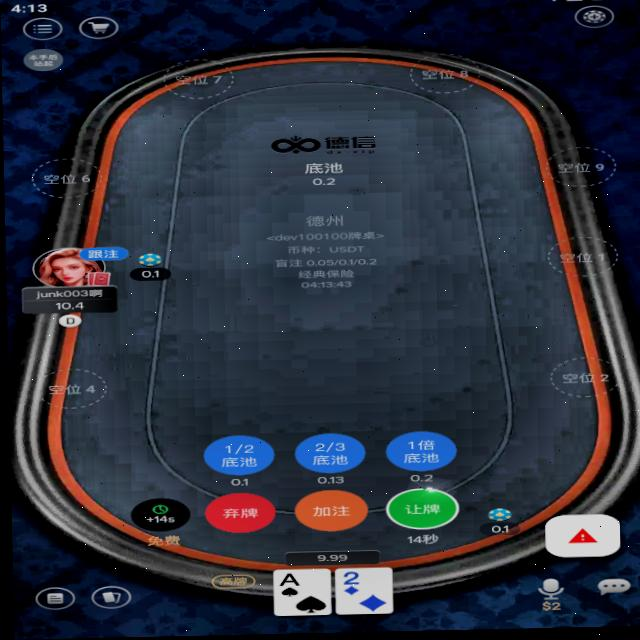2f: (337, 572, 360, 588)
As: (274, 573, 298, 588)
